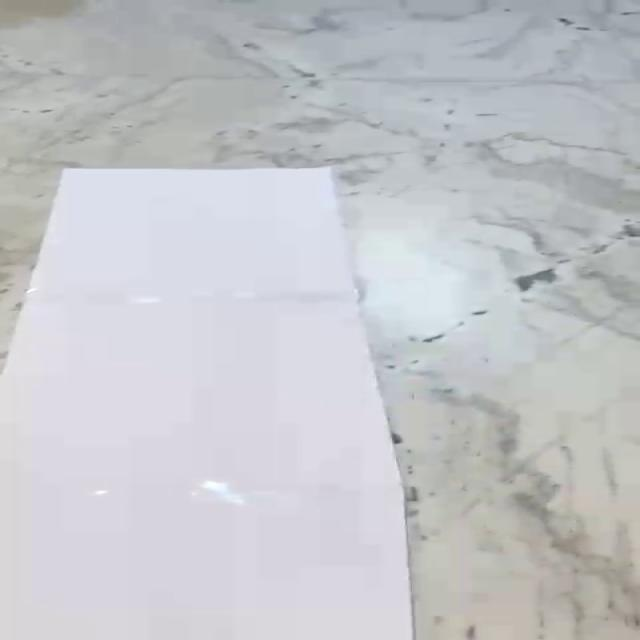road: (0, 167, 416, 640)
